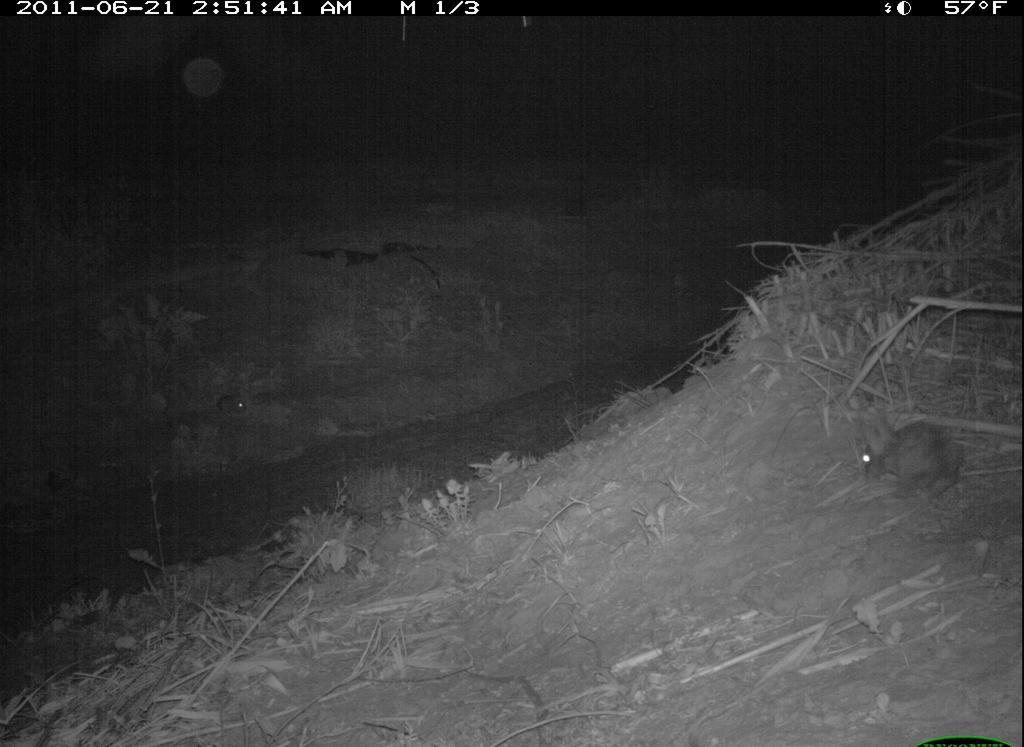rabbit: (844, 404, 971, 507)
